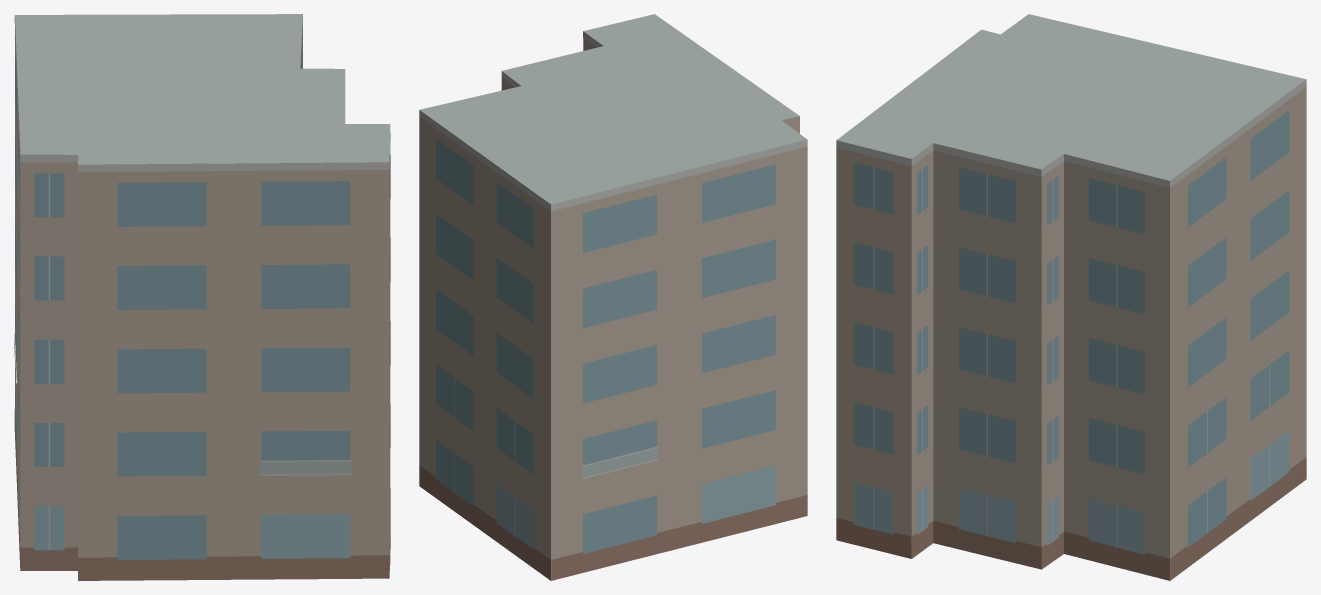
Rendered from survey-upis-32701862.glb.
3 renders of one model, left to right at view 1: azimuth 30°, elevation 25°; view 2: azimuth 150°, elevation 25°; view 3: azimuth 270°, elevation 25°, orthographic. The views are drawn at different scales.
Parts seen in each view (by area): view 1: survey-upis-32701862.tmp; view 2: survey-upis-32701862.tmp; view 3: survey-upis-32701862.tmp.
Boxes of the visible parts, box(x1,y1,x2,y2) form: survey-upis-32701862.tmp: box(14, 14, 390, 580); survey-upis-32701862.tmp: box(419, 14, 807, 580); survey-upis-32701862.tmp: box(836, 14, 1306, 580).
Bounding box in the file's own units: 12.09 × 13.5 × 14.39.
